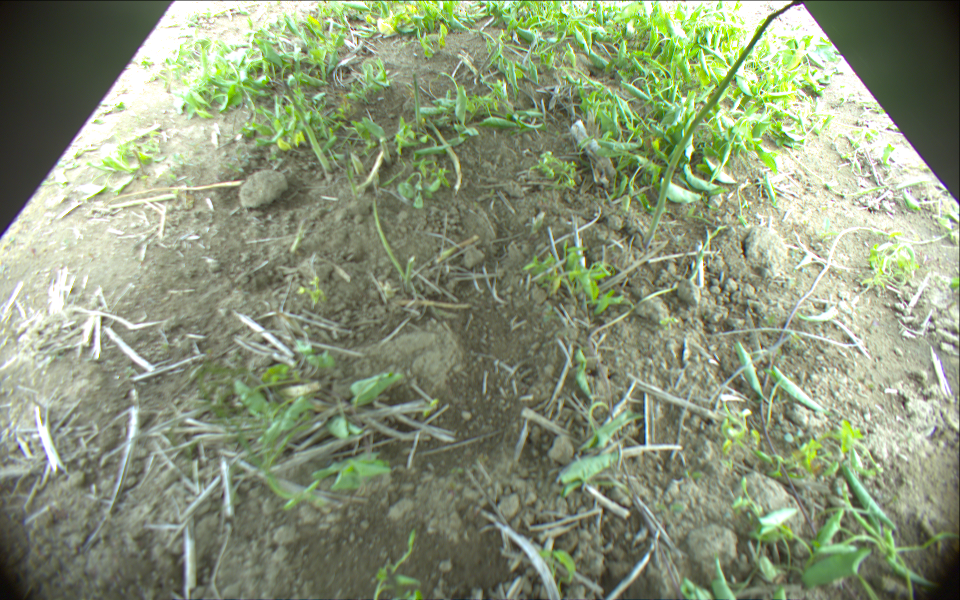aspa: (642, 1, 805, 247), (281, 79, 333, 172), (372, 195, 405, 278), (429, 118, 464, 192), (412, 74, 421, 129), (348, 155, 364, 178), (406, 255, 417, 288), (378, 139, 389, 163)
